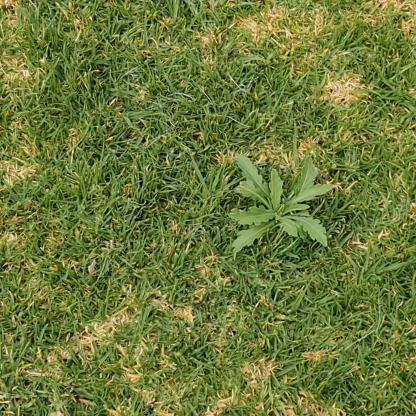Weeds: (229, 153, 334, 253)
